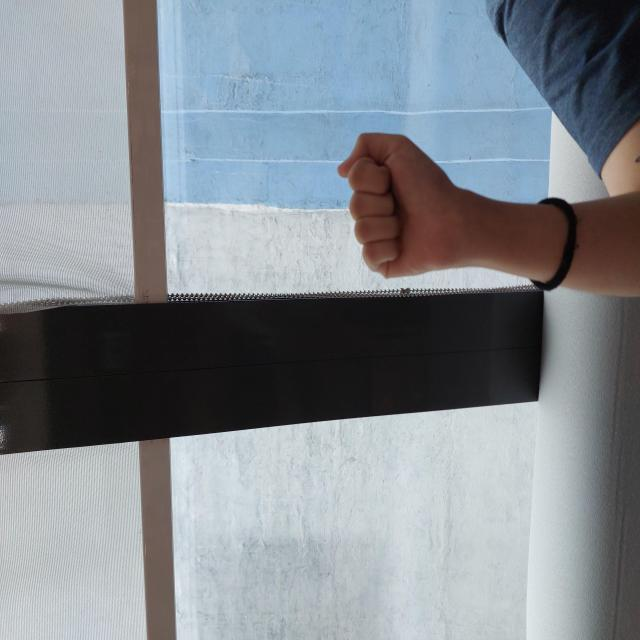A: (361, 336, 510, 447)
